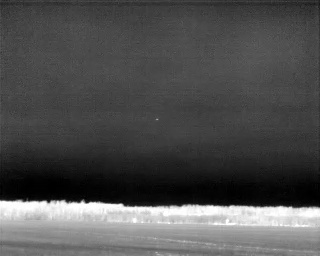HELICOPTER: (154, 116, 161, 123)
